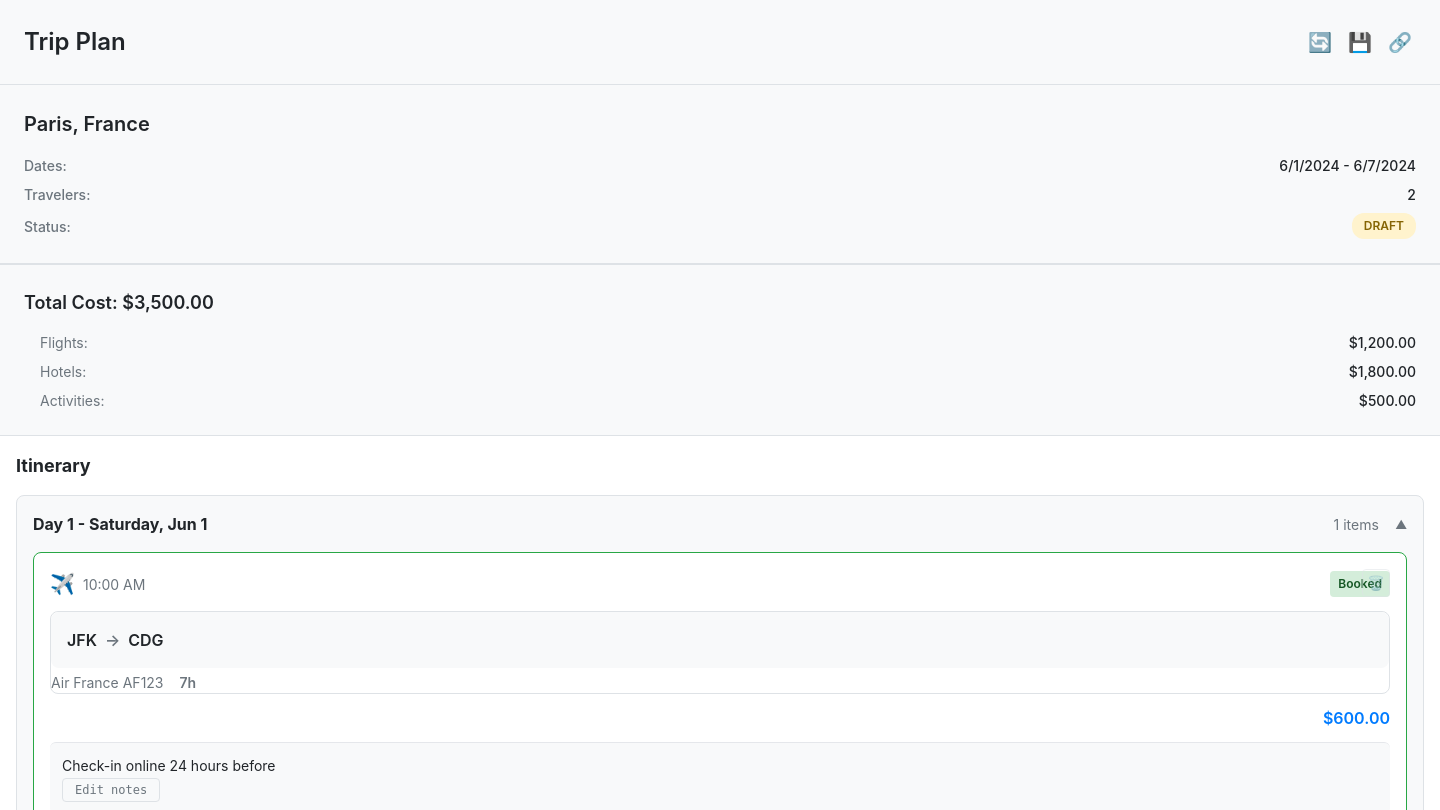
Test case: TripPlanPanel › expands and collapses day sections
Expected: the text "Air France AF123" is shown, [51, 672, 164, 693]
// Click to collapse day 1
Click the heading "Day 1 - Saturday, Jun 1" at (120, 524), box [33, 514, 207, 534]
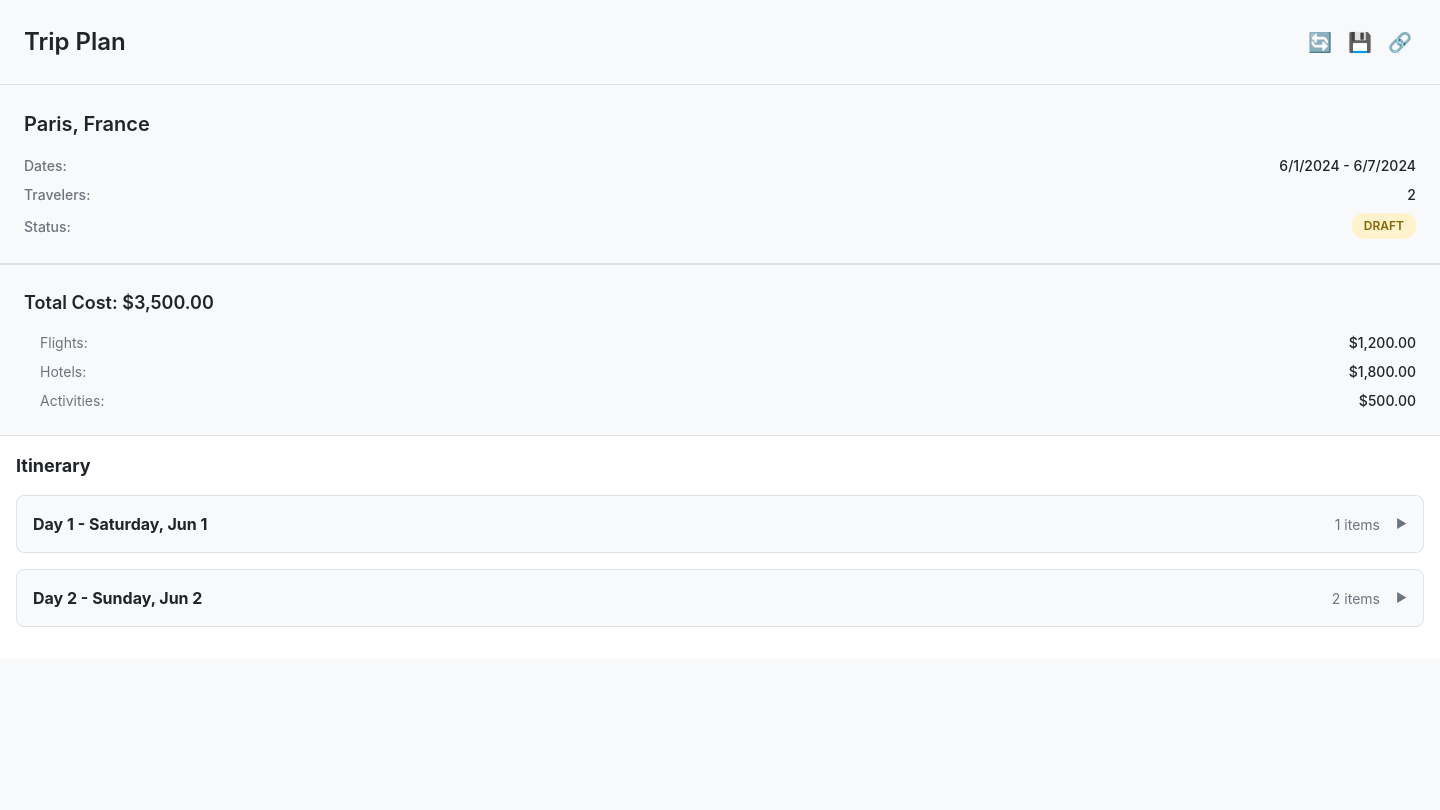
Expected: the text "Air France AF123" is gone
// Click to expand day 2
Click the heading "Day 2 - Sunday, Jun 2" at (118, 598), box [33, 588, 202, 608]
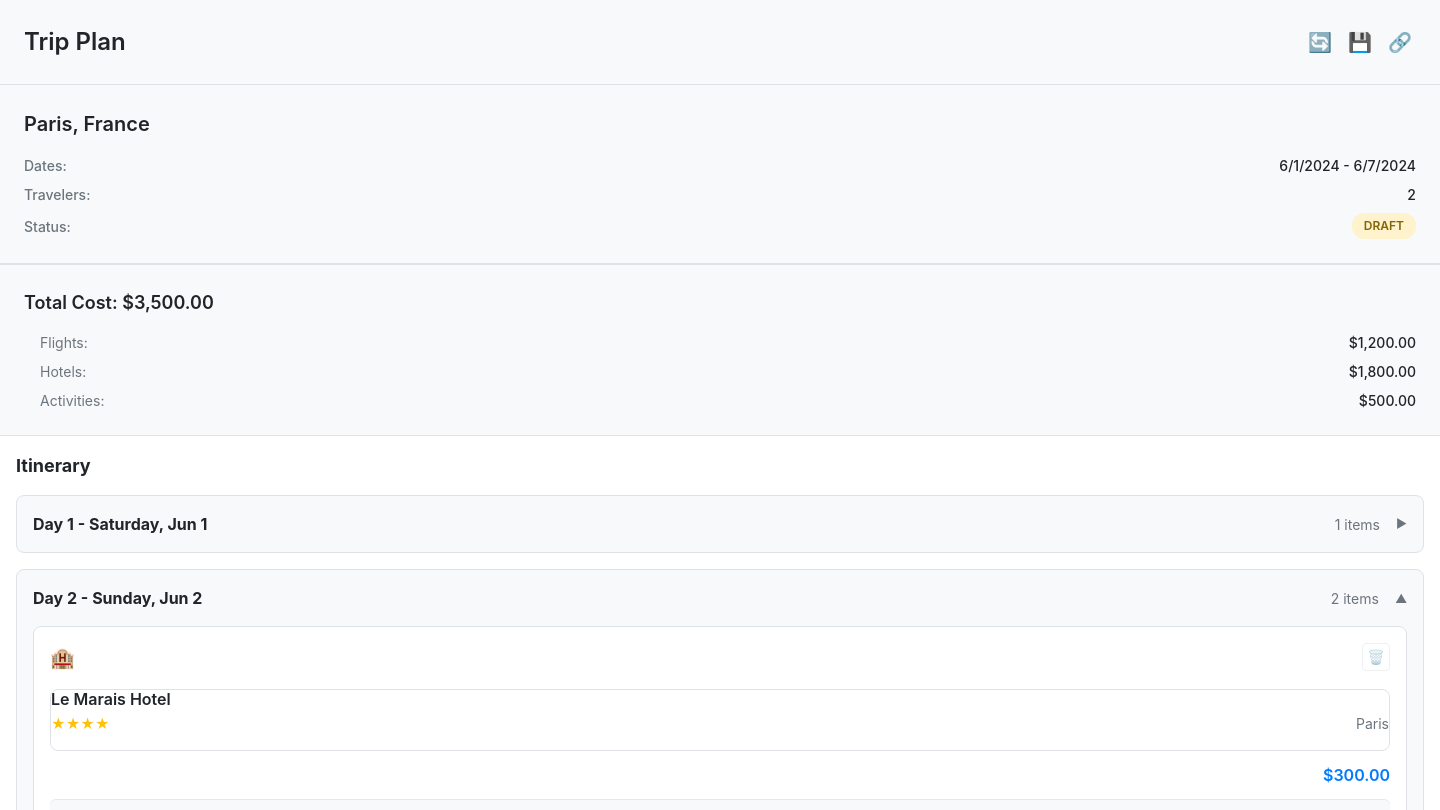
Expected: the text "Le Marais Hotel" is shown, [51, 689, 171, 709]
